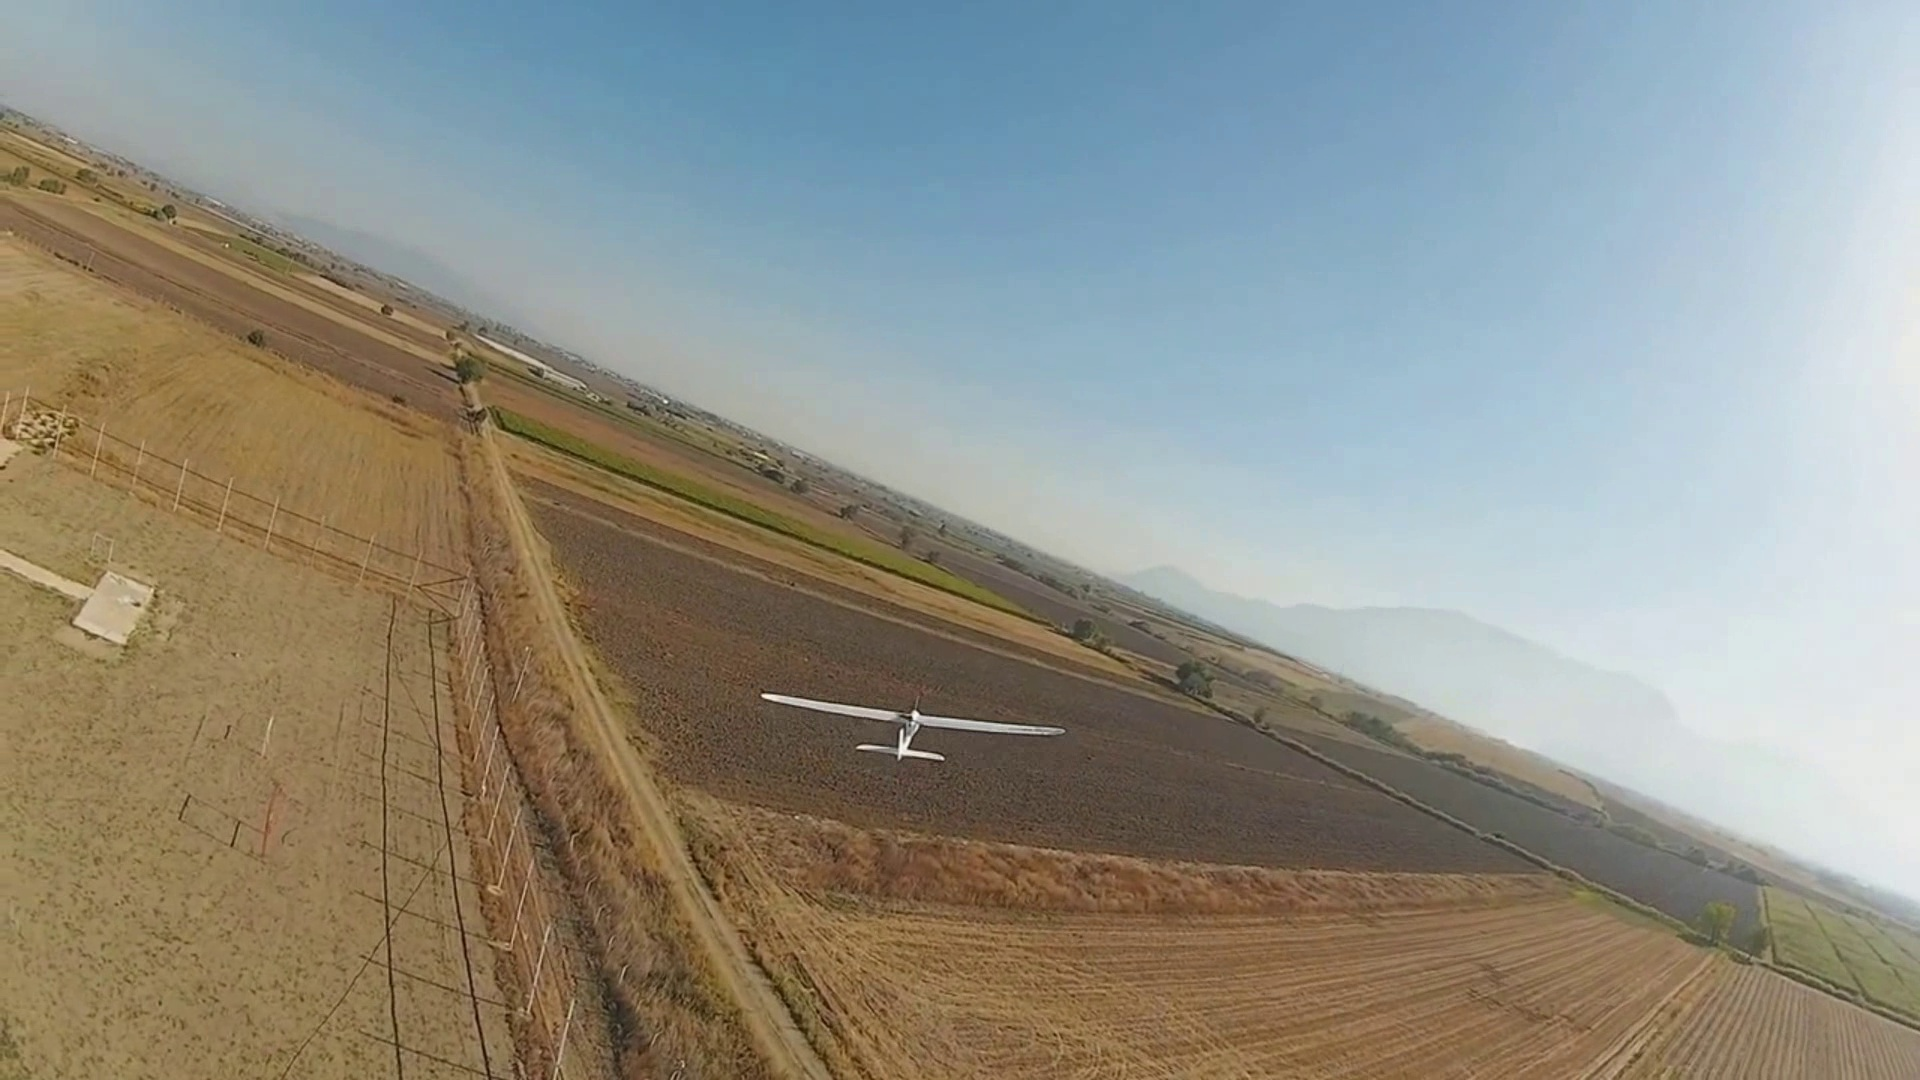airplane: (83, 252, 1919, 1022)
